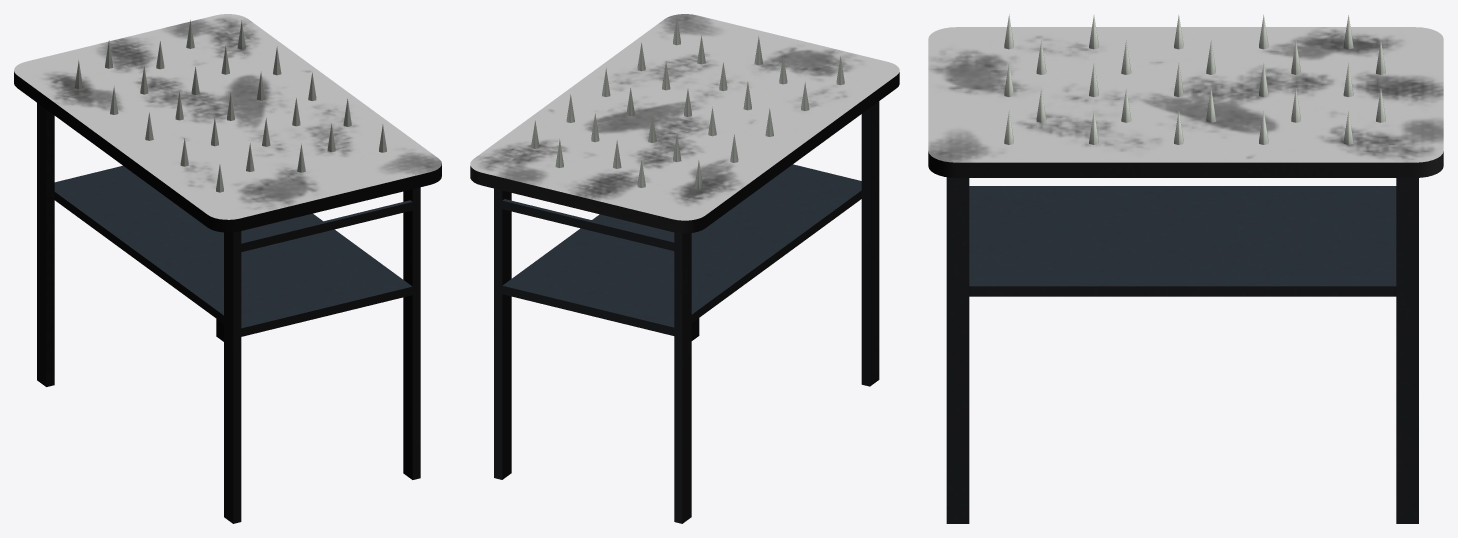
The model's file is table.obj.
3 renders of one model, left to right at view 1: azimuth 30°, elevation 25°; view 2: azimuth 150°, elevation 25°; view 3: azimuth 270°, elevation 25°, orthographic. The views are drawn at different scales.
Visible parts, largest first — view 1: tabpiano, tablegam, tablepun; view 2: tabpiano, tablegam, tablepun; view 3: tabpiano, tablegam, tablepun.
Boxes of the visible parts, x1=… form: tabpiano: x1=14, y1=14, x2=441, y2=232; tablegam: x1=37, y1=103, x2=420, y2=523; tablepun: x1=74, y1=20, x2=386, y2=192; tabpiano: x1=470, y1=14, x2=899, y2=233; tablegam: x1=494, y1=101, x2=879, y2=523; tablepun: x1=531, y1=17, x2=844, y2=188; tabpiano: x1=928, y1=27, x2=1443, y2=177; tablegam: x1=946, y1=177, x2=1418, y2=523; tablepun: x1=1004, y1=14, x2=1385, y2=144.
Bounding box in the file's own units: 56.69 × 79.45 × 91.09.
Materials: 3 (3 with a texture image).
